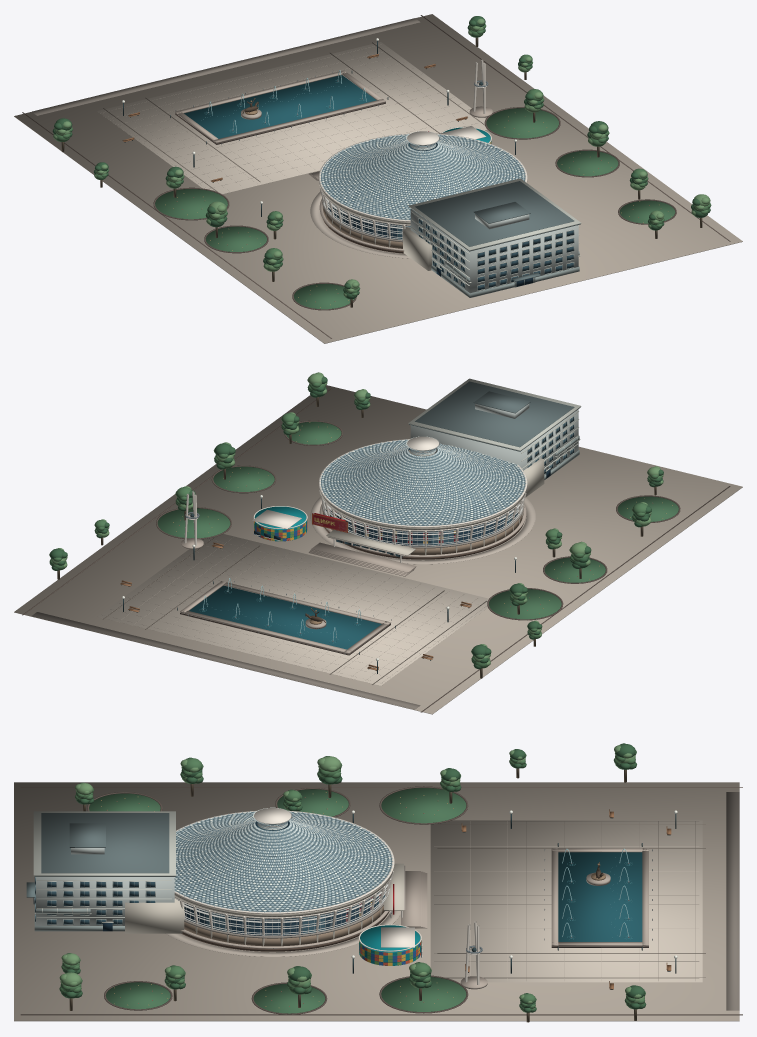
File: almaty_circus.glb
3 views of the same model, one above another, from view 1: azimuth 30°, elevation 25°; view 2: azimuth 150°, elevation 25°; view 3: azimuth 270°, elevation 25° (orthographic). The views are drawn at different scales.
Parts seen in each view (by area): view 1: paving, paving_alt, roof_base, grass_dark, tech_roof, water, tech_wall, roof_tile2, tech_sill, granite_edge, granite, paving_brown (+16 smaller); view 2: paving, paving_alt, roof_base, grass_dark, tech_roof, water, roof_tile2, granite, white, paving_shadow, granite_edge, tech_wall (+16 smaller); view 3: paving, paving_alt, roof_base, grass_dark, tech_roof, water, roof_tile2, granite, granite_edge, tech_wall, white, paving_shadow (+22 smaller).
Part boxes in pixels (x1,y1,x2,y2): paving: [14, 14, 742, 343]; paving_alt: [97, 42, 487, 194]; roof_base: [321, 134, 525, 219]; grass_dark: [155, 108, 675, 309]; tech_roof: [409, 181, 580, 281]; water: [184, 75, 376, 138]; tech_wall: [410, 209, 578, 293]; roof_tile2: [320, 134, 526, 220]; tech_sill: [408, 178, 581, 291]; granite_edge: [22, 15, 730, 338]; granite: [175, 70, 492, 251]; paving_brown: [32, 18, 420, 115]; paving: [14, 385, 742, 714]; paving_alt: [97, 534, 488, 685]; roof_base: [321, 440, 525, 525]; grass_dark: [157, 421, 678, 619]; tech_roof: [409, 381, 580, 451]; water: [189, 585, 381, 649]; roof_tile2: [319, 439, 526, 526]; granite: [180, 504, 526, 653]; white: [184, 436, 527, 562]; paving_shadow: [102, 497, 535, 683]; granite_edge: [22, 388, 730, 712]; tech_wall: [410, 403, 578, 474]; paving: [14, 782, 739, 1021]; paving_alt: [430, 820, 702, 982]; roof_base: [174, 812, 391, 911]; grass_dark: [89, 788, 466, 1013]; tech_roof: [26, 813, 175, 897]; water: [558, 852, 642, 941]; roof_tile2: [174, 811, 393, 912]; granite: [180, 848, 648, 989]; granite_edge: [20, 786, 742, 1015]; tech_wall: [36, 848, 174, 925]; white: [174, 808, 480, 984]; paving_shadow: [166, 821, 698, 980].
Bounding box in the file's own units: 177 × 28.33 × 217.
Materials: 58 (1 with a texture image).
